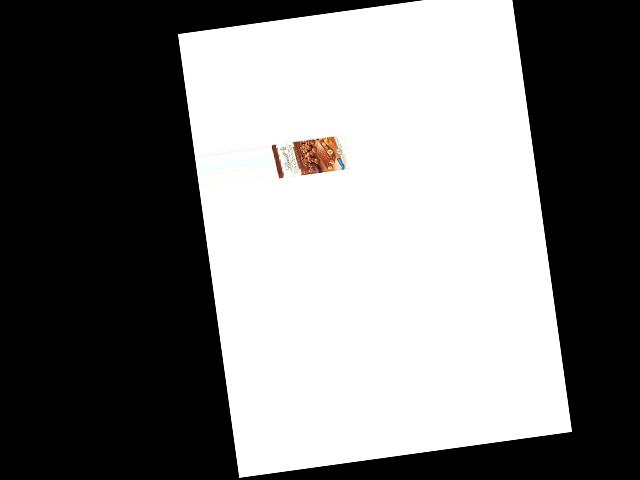chocolate: (273, 129, 346, 180)
